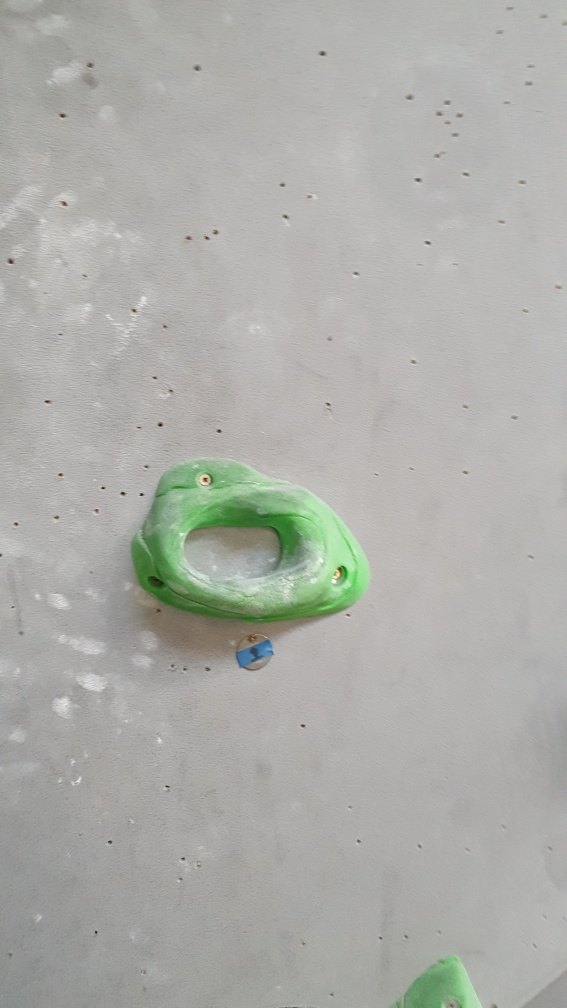Hand Start: (231, 628, 276, 675)
Pocket: (127, 454, 375, 622)
